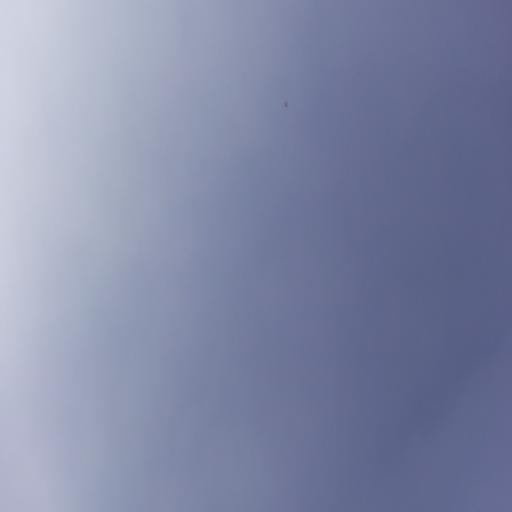drones: (283, 100, 289, 108)
